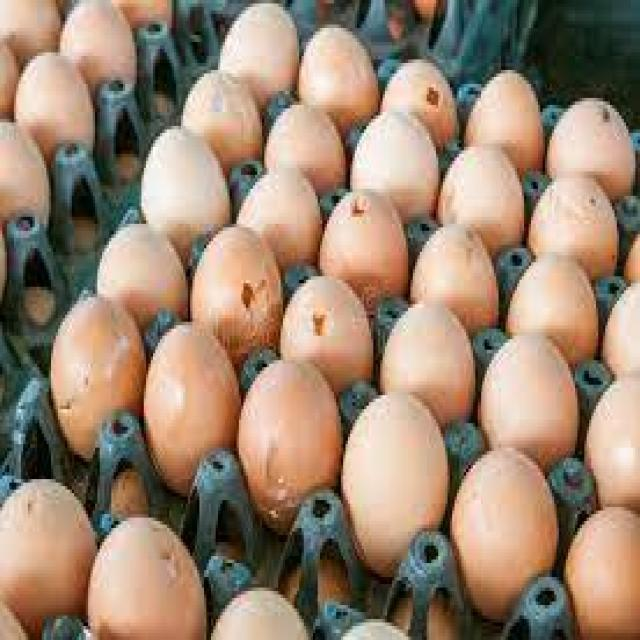biodegradable: (344, 392, 447, 554), (450, 443, 556, 600), (86, 513, 204, 640), (0, 474, 90, 626), (53, 294, 140, 448), (478, 327, 578, 455), (150, 318, 233, 468), (380, 300, 476, 404), (278, 275, 372, 381), (194, 227, 278, 344), (566, 504, 640, 626), (320, 189, 410, 288), (412, 220, 499, 322), (142, 128, 226, 232), (506, 252, 598, 346), (530, 175, 622, 268), (95, 225, 191, 314), (15, 54, 95, 160), (436, 141, 526, 235), (546, 96, 638, 184), (352, 112, 436, 206), (299, 20, 376, 116), (180, 68, 258, 160), (233, 170, 320, 248), (264, 102, 346, 182), (218, 2, 293, 88), (382, 57, 459, 137), (62, 1, 136, 84), (0, 116, 54, 227), (588, 379, 640, 487), (606, 282, 640, 378)
